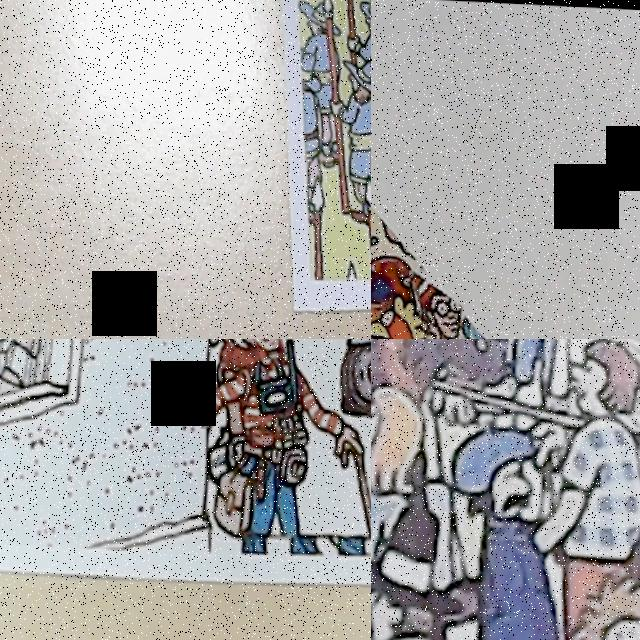waldo: (407, 260, 466, 339), (214, 339, 282, 363)
